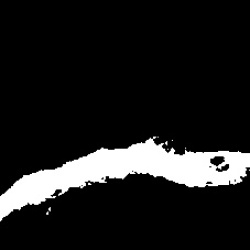crack: (2, 136, 247, 220)
